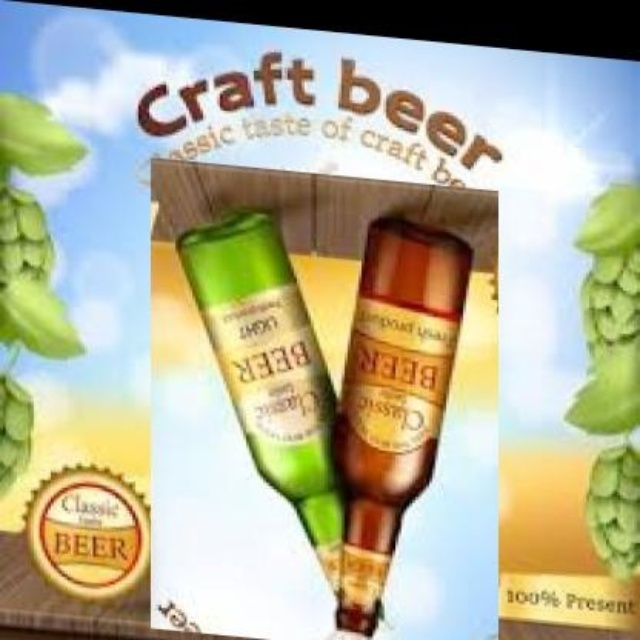trash: (177, 211, 342, 591), (337, 218, 471, 634)
